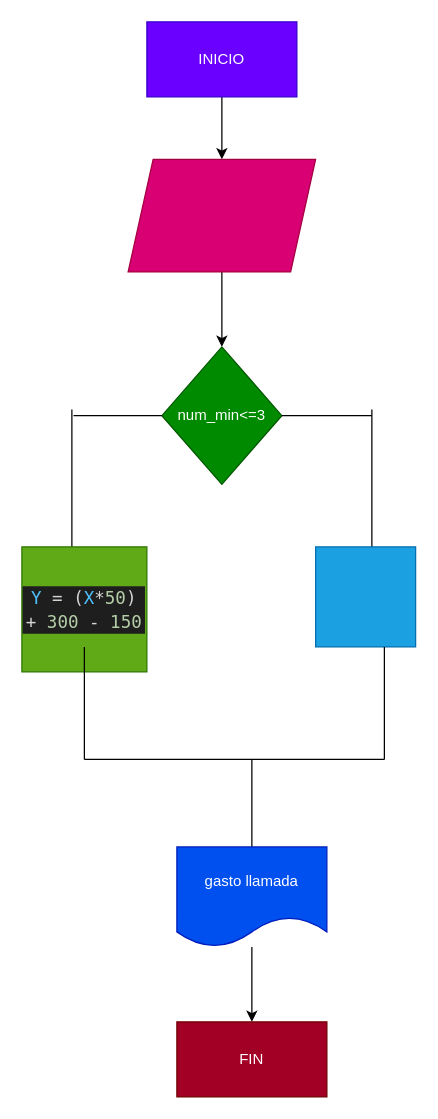
Image size: 438x1119. Some labels were removed from this diagram. Here are the shapes that lost their labels. From the top down, the centre of each, then its label:
At pixel 221 215: "num_min".
At pixel 365 596: "gasto llamada = 300".
